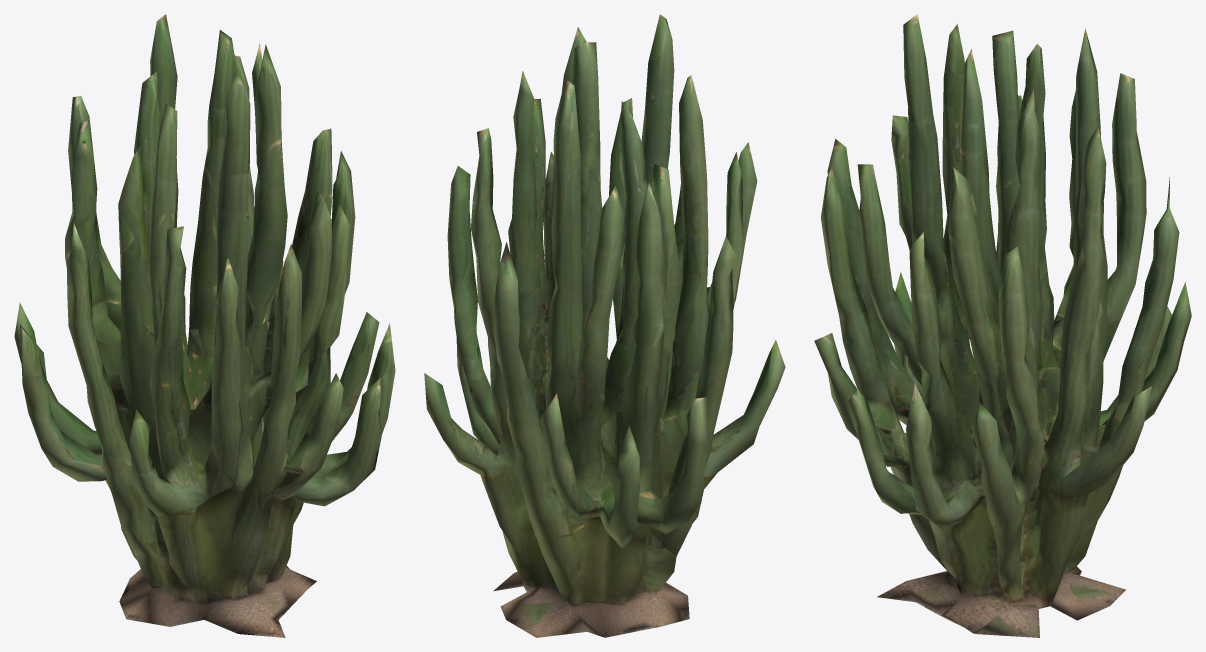
Rendered from desert_cactus_without_1120183818_texture.fbx.
3 renders of one model, left to right at view 1: azimuth 30°, elevation 25°; view 2: azimuth 150°, elevation 25°; view 3: azimuth 270°, elevation 25°, orthographic. The views are drawn at different scales.
Visible parts, largest first — view 1: Mesh1.0; view 2: Mesh1.0; view 3: Mesh1.0.
Part boxes in pixels (x1,y1,x2,y2): Mesh1.0: (14,14,395,637); Mesh1.0: (424,14,785,637); Mesh1.0: (814,14,1191,637).
Size of the model in its own units: 111 by 197 by 118.
1 material, 1 textured.
